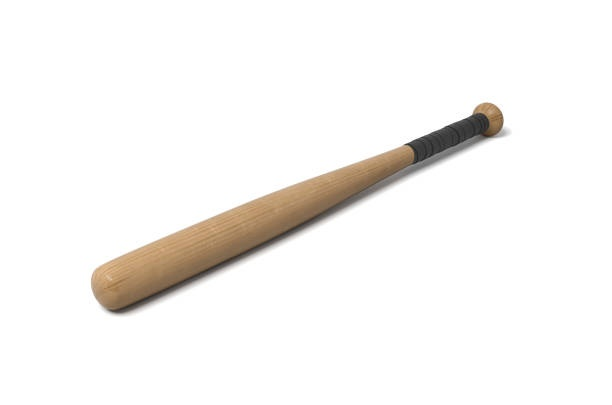bita: (92, 102, 505, 312)
